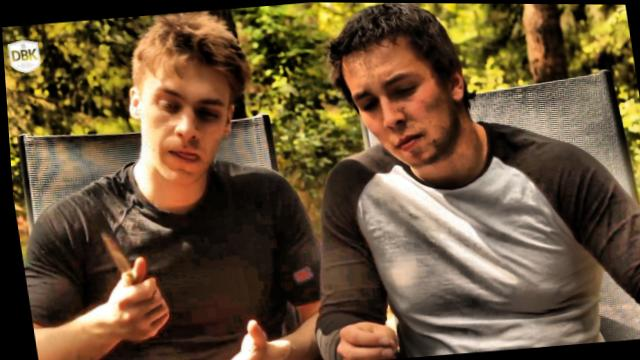knife: (78, 214, 168, 322)
